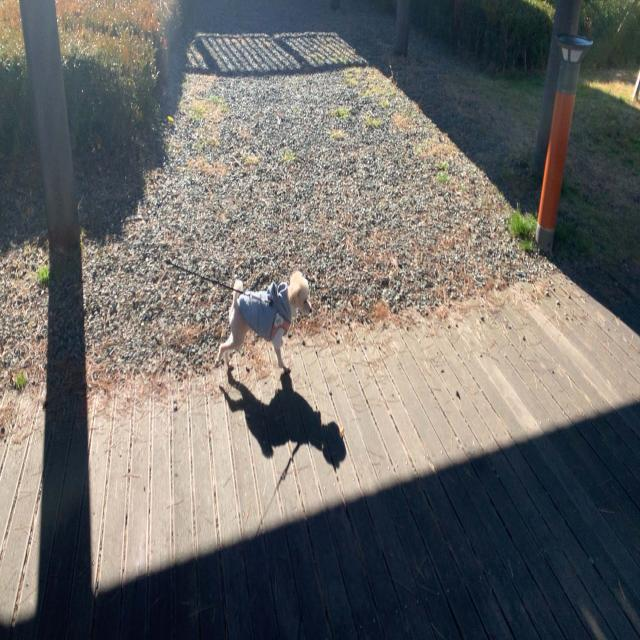Dog: (216, 270, 312, 375)
